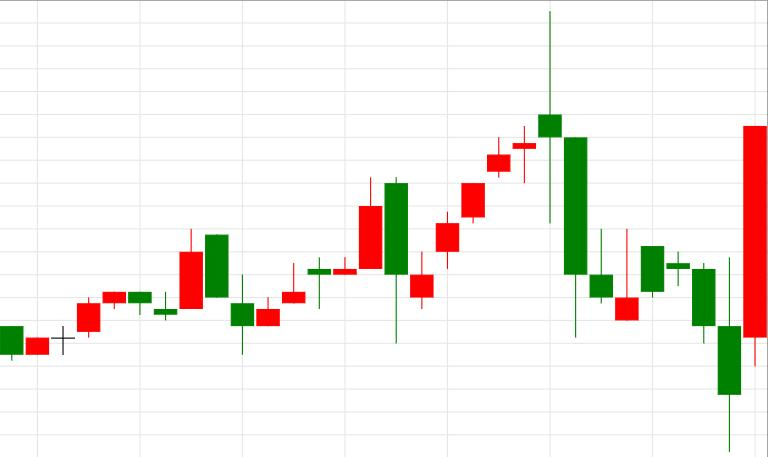bearish_engulfing_fall: (231, 177, 408, 355)
inverse_hammer_rise: (539, 11, 639, 338)
